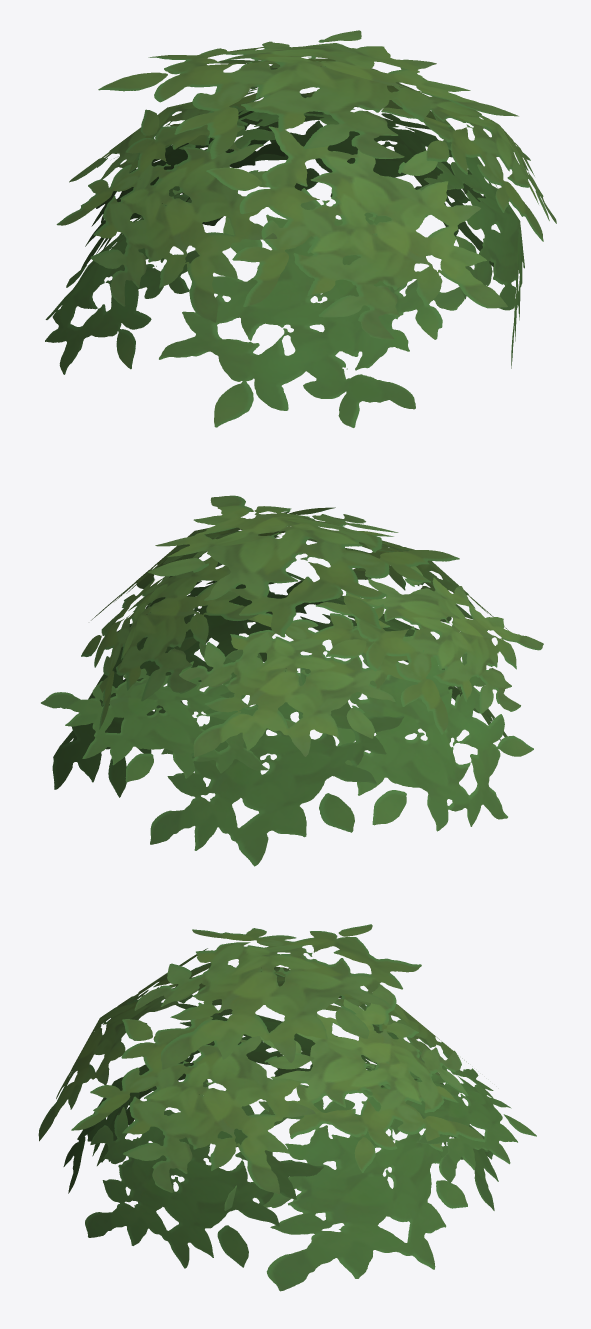
Rendered from main_map_tree_04c.FBX.
3 renders of one model, top to bottom at view 1: azimuth 30°, elevation 25°; view 2: azimuth 150°, elevation 25°; view 3: azimuth 270°, elevation 25°, orthographic. The views are drawn at different scales.
Visible parts, largest first — view 1: main_map_tree_04c; view 2: main_map_tree_04c; view 3: main_map_tree_04c.
Part boxes in pixels (x1,y1,x2,y2): main_map_tree_04c: [45, 30, 556, 427]; main_map_tree_04c: [41, 495, 543, 866]; main_map_tree_04c: [38, 924, 536, 1291].
Bounding box in the file's own units: 148 × 81.96 × 163.
